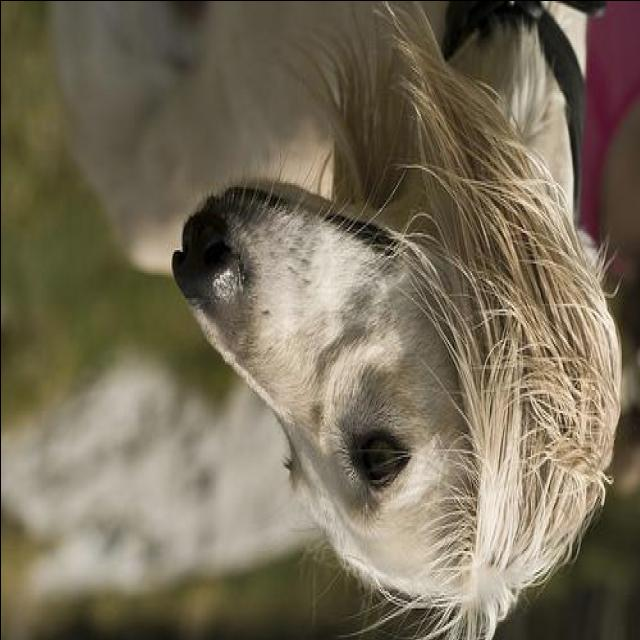saluki: (49, 2, 623, 636)
